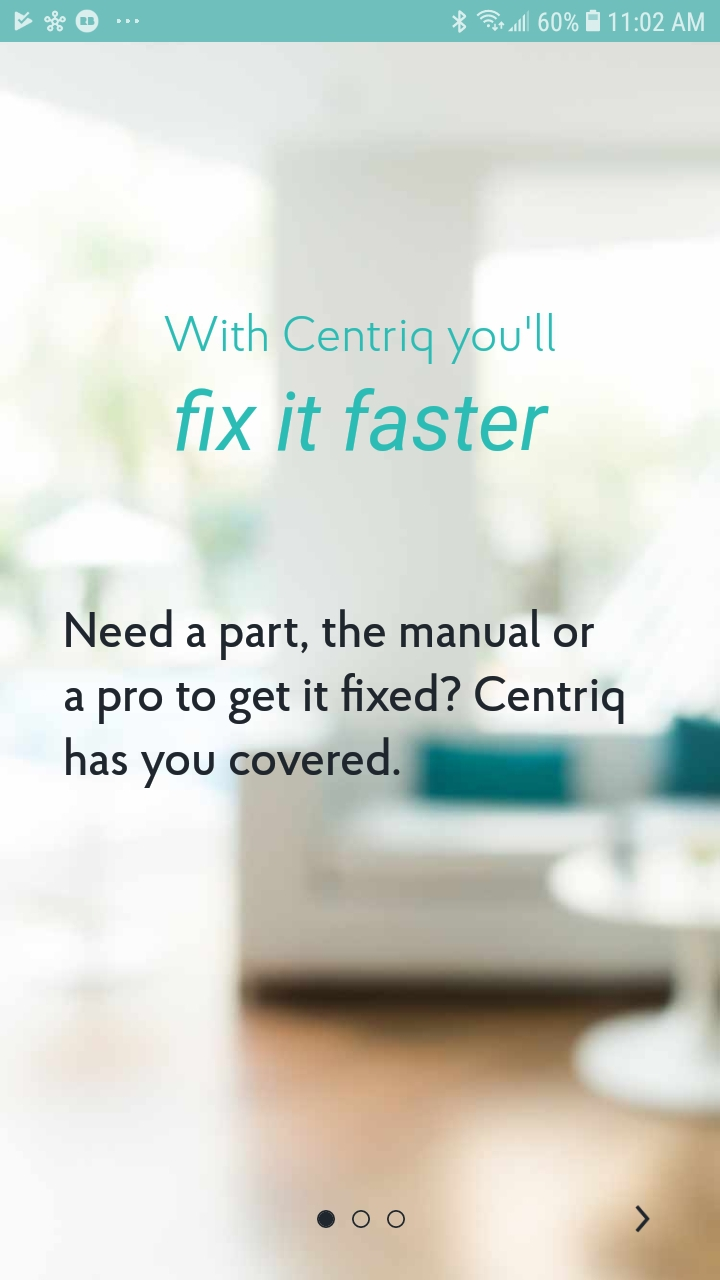BackgroundImage: (1, 43, 720, 1280)
Icon: (634, 1204, 650, 1233)
PageIndicator: (317, 1209, 407, 1230)
Text: (65, 608, 625, 789), (176, 387, 550, 452), (164, 312, 556, 365)
UpperTaskBar: (1, 1, 720, 43)
